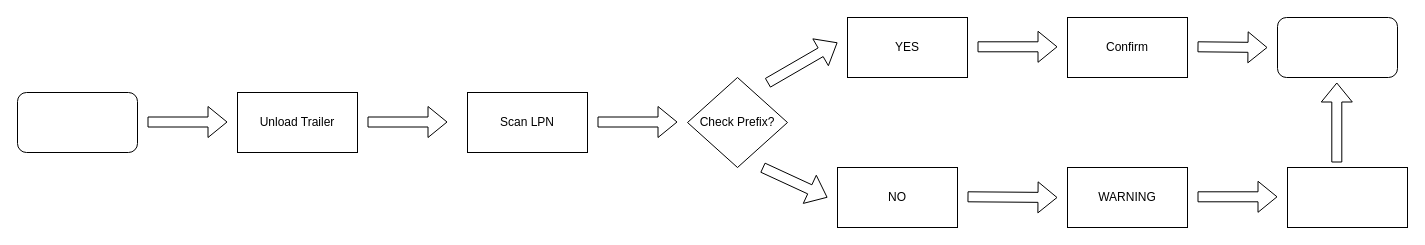
This 1425x245 diagram has some shape labels left out. Each missing label, with the centre of its shape:
"END" belongs at point 1337,47.
"Re-Scan" belongs at point 1347,197.
"START" belongs at point 77,122.
